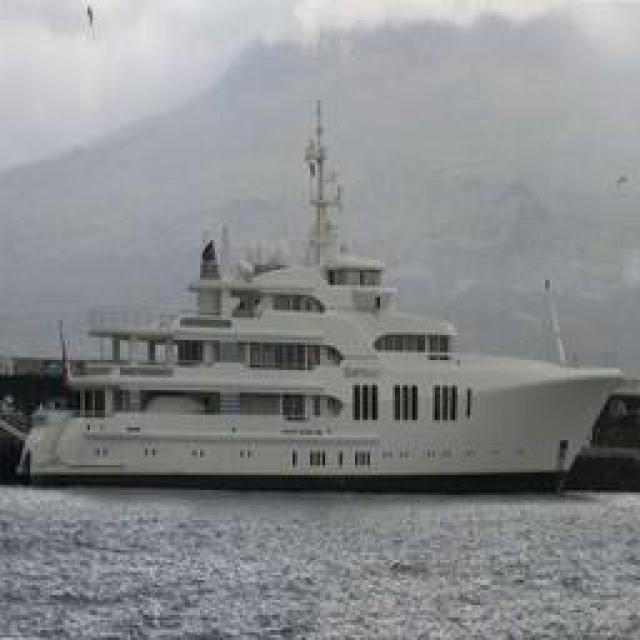Ship: (24, 188, 627, 496)
